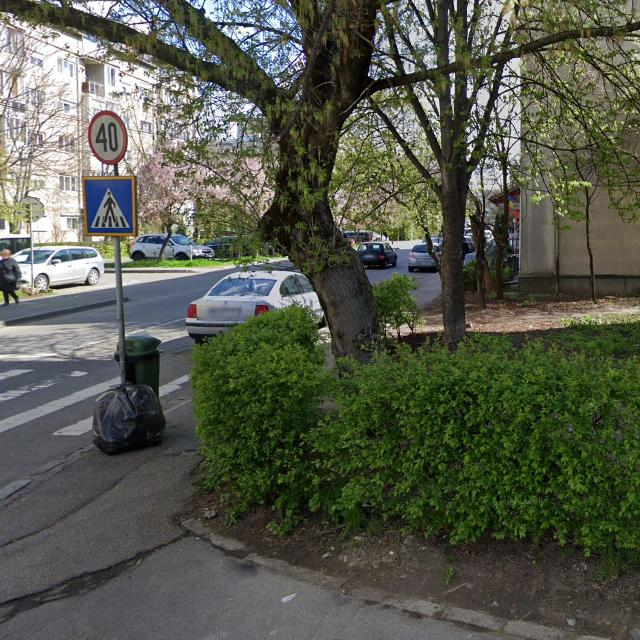forb_speed_over_40: (89, 110, 128, 164)
info_crosswalk: (83, 175, 137, 236)
